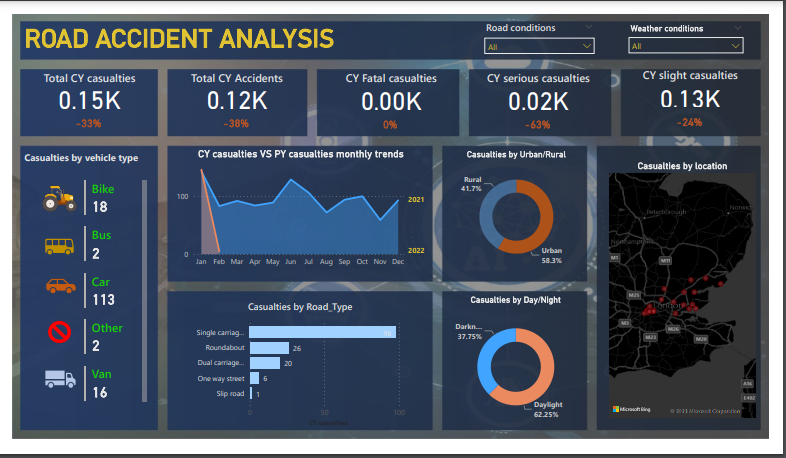

The page's visual inventory and layout, read from the dashboard file:
{"tool":"powerbi","page":{"name":"Page 1","canvas":[1280,720],"ordinal":0},"visuals":[{"type":"card","title":" CY slight casualties ","fields":{"Values":["Data.CY casualties"]},"box":[1032.6,90.3,229.3,71.5],"z":0,"group":"g2"},{"type":"group","id":"g1","title":"Group 1","box":[30.7,93.9,200.4,111.9],"z":0},{"type":"card","title":"Total CY casualties ","fields":{"Values":["Data.CY casualties"]},"box":[30.7,93.9,200.4,70.4],"z":0,"group":"g3"},{"type":"card","title":"Total CY Accidents","fields":{"Values":["Data.CY Accidents"]},"box":[272.6,93.9,214.8,70.4],"z":0,"group":"g4"},{"type":"card","title":" CY Fatal casualties ","fields":{"Values":["Data.CY casualties"]},"box":[527.1,93.9,229.3,71.5],"z":0,"group":"g5"},{"type":"card","title":" CY serious casualties ","fields":{"Values":["Data.CY casualties"]},"box":[776.2,93.9,229.3,71.5],"z":0,"group":"g6"},{"type":"group","id":"g2","title":"Group 2","box":[1032.6,90.3,229.3,115.5],"z":3,"group":"g10"},{"type":"group","id":"g3","title":"Group 2","box":[30.7,93.9,200.4,111.9],"z":3,"group":"g1"},{"type":"group","id":"g4","title":"Group 2","box":[272.6,93.9,214.8,111.9],"z":3,"group":"g7"},{"type":"group","id":"g5","title":"Group 2","box":[527.1,93.9,229.3,115.5],"z":3,"group":"g8"},{"type":"group","id":"g6","title":"Group 2","box":[776.2,93.9,229.3,115.5],"z":3,"group":"g9"},{"type":"group","id":"g7","title":"Group 1","box":[272.6,93.9,214.8,111.9],"z":1000},{"type":"card","title":"YoY growth","fields":{"Values":["Data.YoY"]},"box":[1056.8,161.8,176.4,42.2],"z":1000,"group":"g2"},{"type":"card","title":"YoY growth","fields":{"Values":["Data.YoY"]},"box":[51.9,164.3,154.1,41.5],"z":1000,"group":"g3"},{"type":"card","title":"YoY growth","fields":{"Values":["Data.YoY Accidents"]},"box":[295.3,164.3,165.2,41.5],"z":1000,"group":"g4"},{"type":"card","title":"YoY growth","fields":{"Values":["Data.YoY"]},"box":[551.3,165.4,176.4,42.2],"z":1000,"group":"g5"},{"type":"card","title":"YoY growth","fields":{"Values":["Data.YoY"]},"box":[800.4,165.4,176.4,42.2],"z":1000,"group":"g6"},{"type":"group","id":"g8","title":"Group 1","box":[527.1,93.9,229.3,115.5],"z":2000},{"type":"group","id":"g9","title":"Group 1","box":[776.2,93.9,229.3,115.5],"z":3000},{"type":"group","id":"g10","title":"Group 1","box":[1032.6,90.3,229.3,115.5],"z":4000},{"type":"textbox","box":[16.2,10.8,649.9,68.6],"z":5000},{"type":"multiRowCard","fields":{"Values":["Data.Vehicle_Type (groups)","Data.CY casualties"]},"box":[117.3,276.2,115.5,397.1],"z":6000},{"type":"image","box":[27.1,276.2,104.7,72.2],"z":7000},{"type":"image","box":[48.7,359.2,61.4,66.8],"z":8000},{"type":"image","box":[52.4,427.8,61.4,63.2],"z":9000},{"type":"image","box":[48.7,509.1,61.4,56],"z":10000},{"type":"image","box":[48.7,583.1,65,68.6],"z":11000},{"type":"textbox","box":[16.2,225.7,232.9,50.5],"z":12000},{"type":"areaChart","title":"CY casualties VS PY casualties monthly trends","fields":{"Category":["Calender.Months"],"Y":["Sum(Data.Number_of_Casualties)"],"Series":["Calender.Date.Variation.Date Hierarchy.Year"]},"box":[272.6,225.7,431.4,211.2],"z":13000},{"type":"donutChart","title":"Casualties by Urban/Rural","fields":{"Category":["Data.Urban_or_Rural_Area"],"Y":["Data.CY casualties"]},"box":[743.7,229.3,218.4,211.2],"z":14000},{"type":"donutChart","title":" Casualties by Day/Night","fields":{"Y":["Data.CY casualties"],"Category":["Data.Light_Conditions (groups)"]},"box":[743.7,474.8,216.6,227.5],"z":15000},{"type":"clusteredBarChart","title":"Casualties by Road_Type","fields":{"Category":["Data.Road_Type"],"Y":["Data.CY casualties"]},"box":[290.6,483.8,393.5,218.4],"z":16000},{"type":"map","title":"Casualties by location","fields":{"X":["Data.Longitude"],"Y":["Data.Latitude"],"Category":["Data.Local_Authority_(District)"]},"box":[1005.5,247.3,256.3,440.5],"z":17000},{"type":"slicer","fields":{"Values":["Data.Weather_Conditions (groups)"]},"box":[1032.6,10.8,214.8,68.6],"z":17001},{"type":"slicer","fields":{"Values":["Data.Road_Surface_Conditions (groups)"]},"box":[788.9,7.2,205.8,72.2],"z":17002}]}

Visuals, with their boxes on the page's 1280x720 design canvas (x1, y1, x2, y2). These are canvas units, not pixel positions in the 786x458 screenshot, which may show the page scaled, cropped or inside an application window:
" CY slight casualties " card: {"left": 1033, "top": 90, "right": 1262, "bottom": 162}
"Group 1" group: {"left": 31, "top": 94, "right": 231, "bottom": 206}
"Total CY casualties " card: {"left": 31, "top": 94, "right": 231, "bottom": 164}
"Total CY Accidents" card: {"left": 273, "top": 94, "right": 487, "bottom": 164}
" CY Fatal casualties " card: {"left": 527, "top": 94, "right": 756, "bottom": 165}
" CY serious casualties " card: {"left": 776, "top": 94, "right": 1006, "bottom": 165}
"Group 2" group: {"left": 1033, "top": 90, "right": 1262, "bottom": 206}
"Group 2" group: {"left": 31, "top": 94, "right": 231, "bottom": 206}
"Group 2" group: {"left": 273, "top": 94, "right": 487, "bottom": 206}
"Group 2" group: {"left": 527, "top": 94, "right": 756, "bottom": 209}
"Group 2" group: {"left": 776, "top": 94, "right": 1006, "bottom": 209}
"Group 1" group: {"left": 273, "top": 94, "right": 487, "bottom": 206}
"YoY growth" card: {"left": 1057, "top": 162, "right": 1233, "bottom": 204}
"YoY growth" card: {"left": 52, "top": 164, "right": 206, "bottom": 206}
"YoY growth" card: {"left": 295, "top": 164, "right": 460, "bottom": 206}
"YoY growth" card: {"left": 551, "top": 165, "right": 728, "bottom": 208}
"YoY growth" card: {"left": 800, "top": 165, "right": 977, "bottom": 208}
"Group 1" group: {"left": 527, "top": 94, "right": 756, "bottom": 209}
"Group 1" group: {"left": 776, "top": 94, "right": 1006, "bottom": 209}
"Group 1" group: {"left": 1033, "top": 90, "right": 1262, "bottom": 206}
textbox: {"left": 16, "top": 11, "right": 666, "bottom": 79}
multiRowCard - Data.Vehicle_Type (groups) x Data.CY casualties: {"left": 117, "top": 276, "right": 233, "bottom": 673}
image: {"left": 27, "top": 276, "right": 132, "bottom": 348}
image: {"left": 49, "top": 359, "right": 110, "bottom": 426}
image: {"left": 52, "top": 428, "right": 114, "bottom": 491}
image: {"left": 49, "top": 509, "right": 110, "bottom": 565}
image: {"left": 49, "top": 583, "right": 114, "bottom": 652}
textbox: {"left": 16, "top": 226, "right": 249, "bottom": 276}
"CY casualties VS PY casualties monthly trends" areaChart: {"left": 273, "top": 226, "right": 704, "bottom": 437}
"Casualties by Urban/Rural" donutChart: {"left": 744, "top": 229, "right": 962, "bottom": 440}
" Casualties by Day/Night" donutChart: {"left": 744, "top": 475, "right": 960, "bottom": 702}
"Casualties by Road_Type" clusteredBarChart: {"left": 291, "top": 484, "right": 684, "bottom": 702}
"Casualties by location" map: {"left": 1006, "top": 247, "right": 1262, "bottom": 688}
slicer - Data.Weather_Conditions (groups): {"left": 1033, "top": 11, "right": 1247, "bottom": 79}
slicer - Data.Road_Surface_Conditions (groups): {"left": 789, "top": 7, "right": 995, "bottom": 79}
